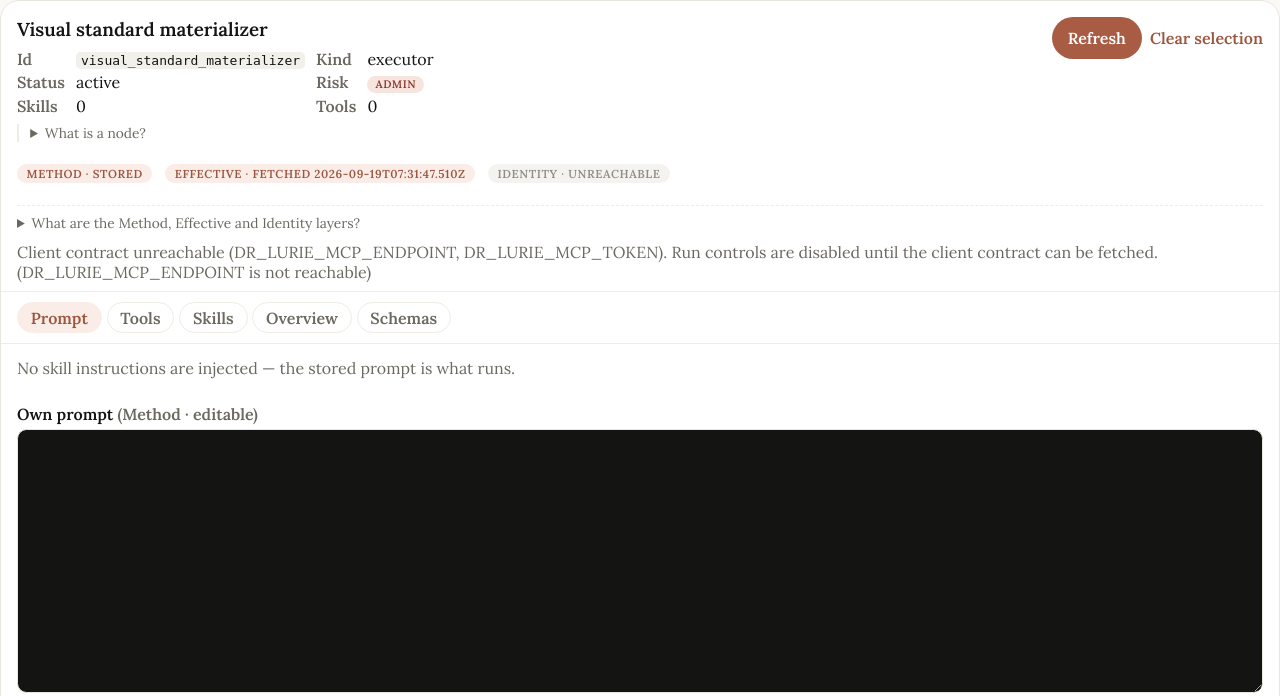
Test: NodeInspector — engine capability (W4.2) › warns that an admin-risk verb is reached past every grant and risk check
Click the button "Tools": (140, 318) [106, 302, 174, 333]
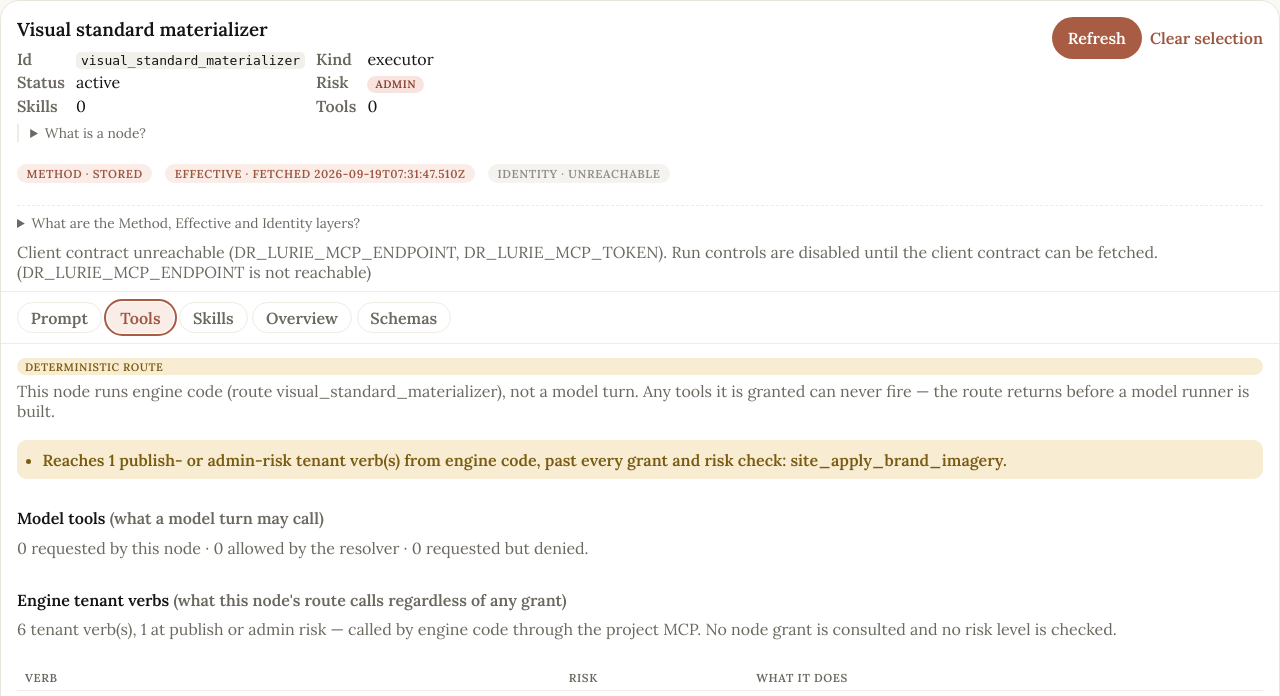
Result: the list item "site_apply_brand_imagery" is shown at [43, 450, 1007, 470]
